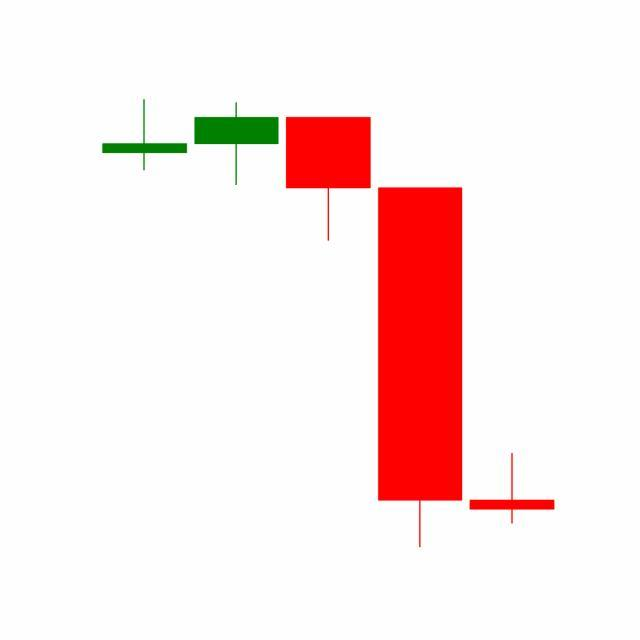Spinning Top: (466, 453, 559, 526)
